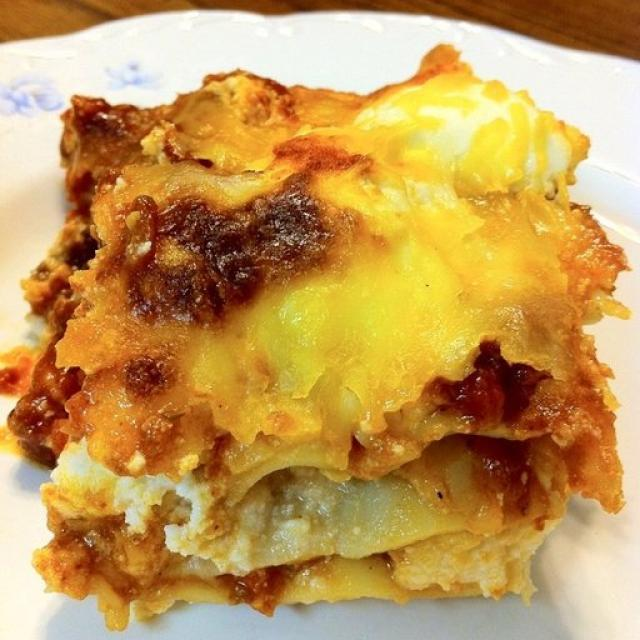Lasagna: (25, 62, 606, 588)
